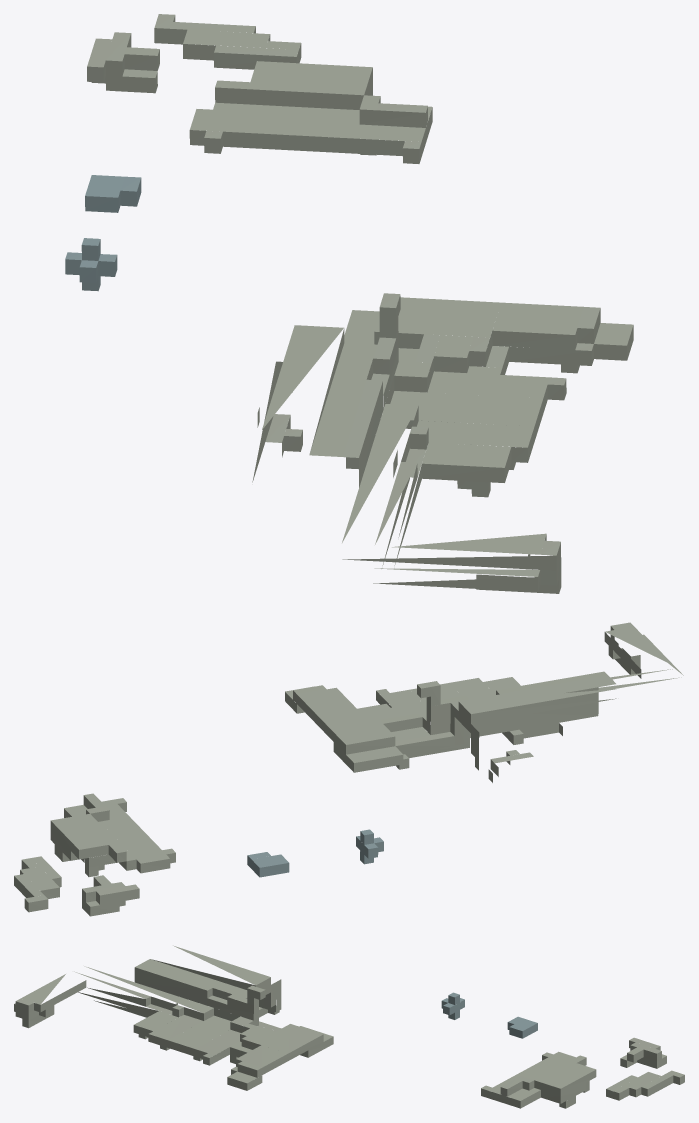
3 views of the same model, one above another, from view 1: azimuth 30°, elevation 25°; view 2: azimuth 150°, elevation 25°; view 3: azimuth 270°, elevation 25° (orthographic). The views are drawn at different scales.
Visible parts, largest first — view 1: measured-industrial; view 2: measured-industrial; view 3: measured-industrial.
Part boxes in pixels (box(x1,y1,x2,y2)): measured-industrial: box(65, 14, 633, 593); measured-industrial: box(14, 622, 683, 916); measured-industrial: box(14, 945, 684, 1108).
Size of the model in its own units: 54.97 by 10.59 by 121.
